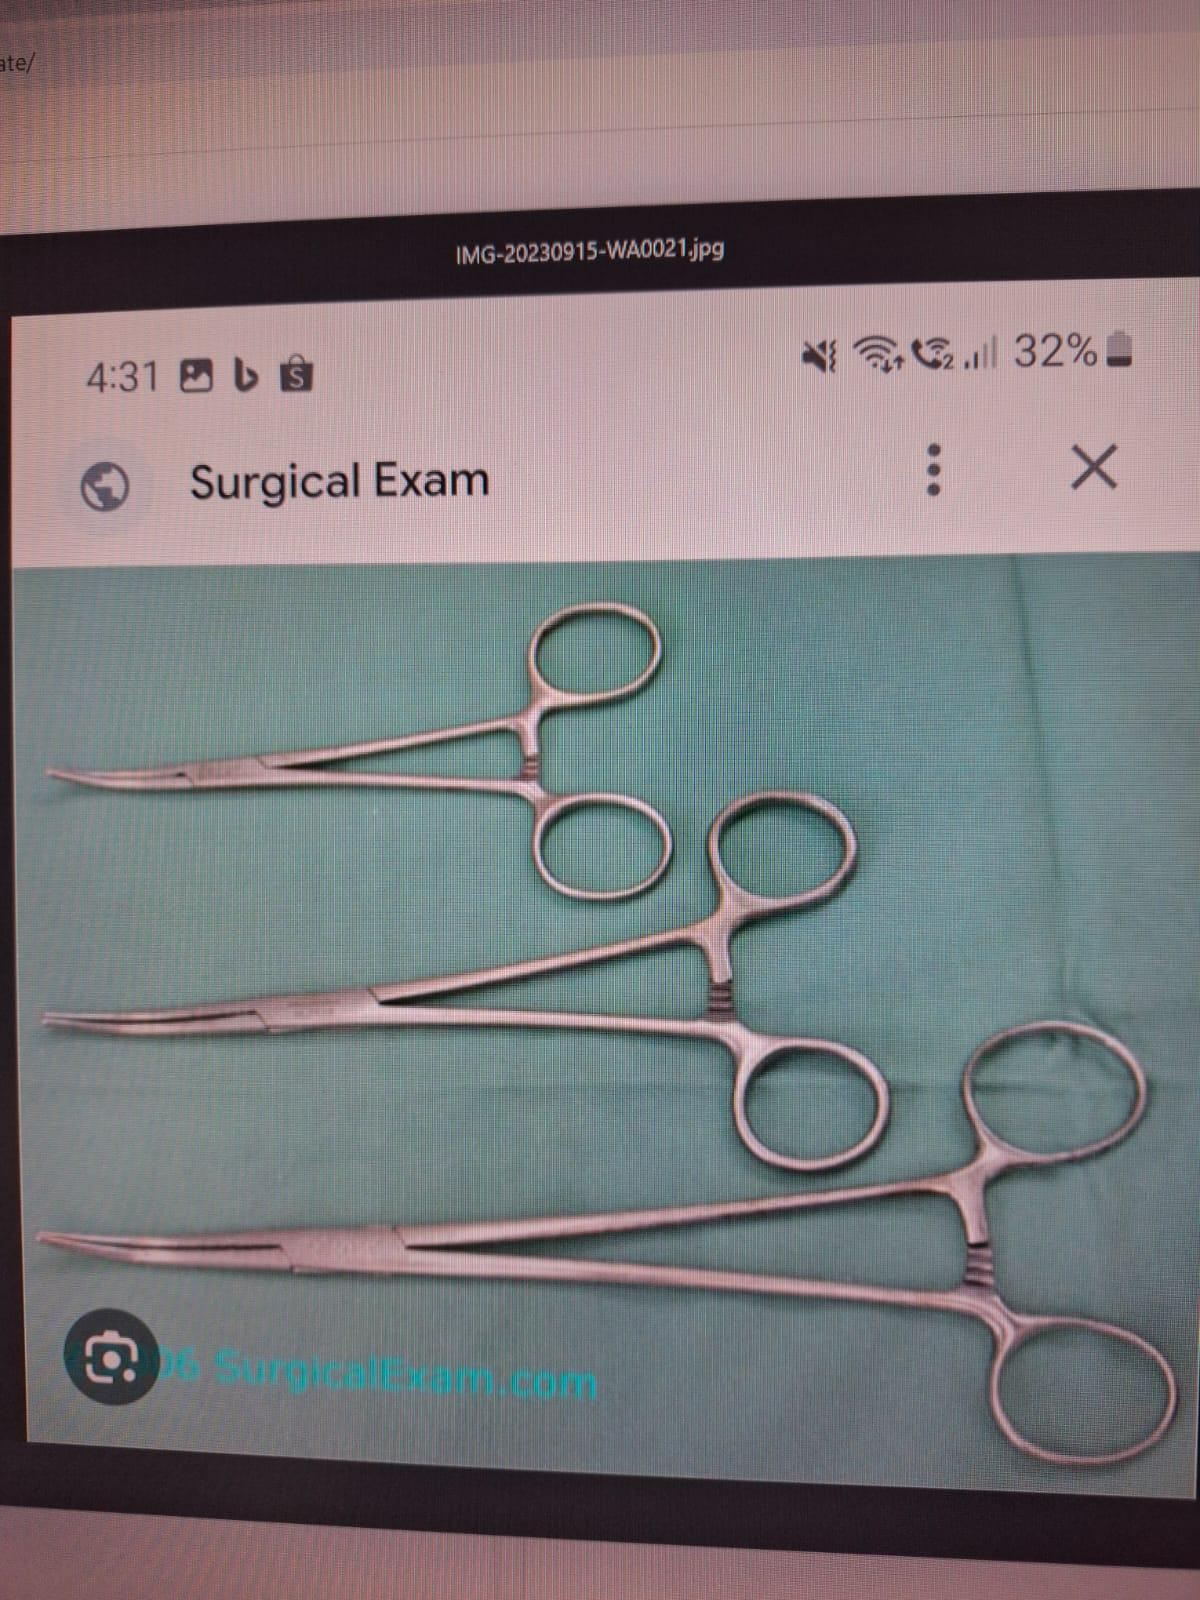Artery Forceps: (23, 1010, 1200, 1475), (25, 785, 892, 1165), (33, 592, 684, 912)
